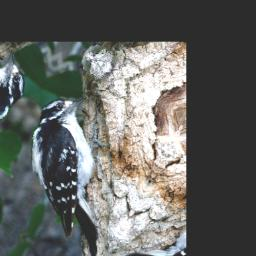Woodpecker: (0, 79, 163, 256)
